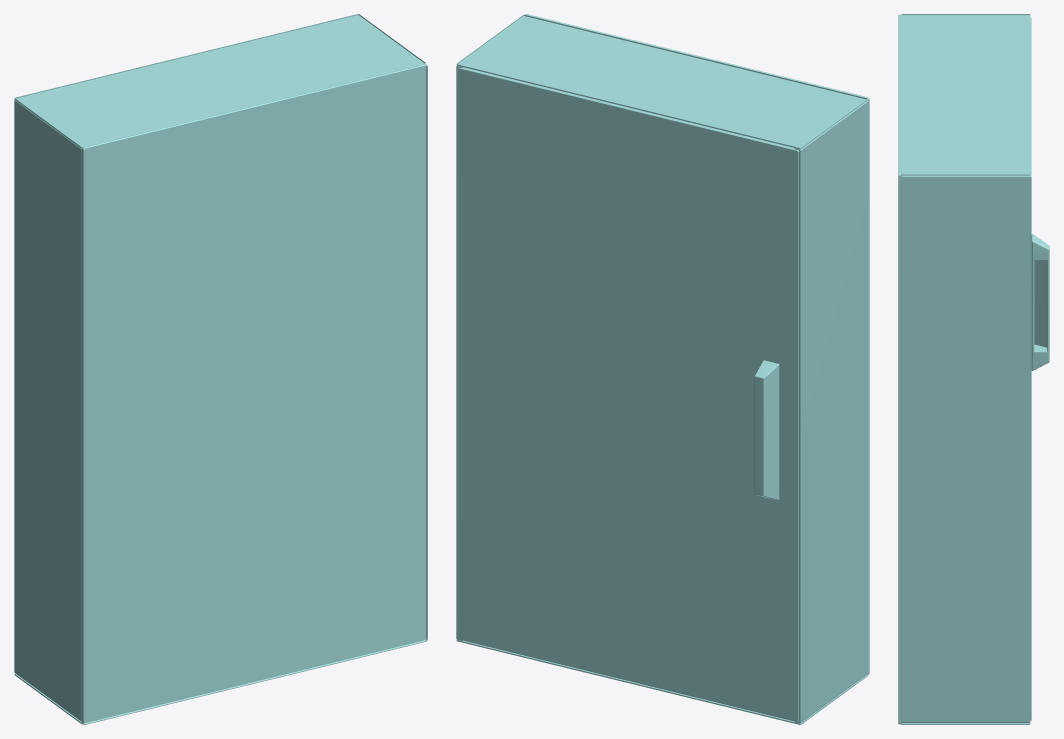
File: Fuse_box_geo 1.fbx
3 renders of one model, left to right at view 1: azimuth 30°, elevation 25°; view 2: azimuth 150°, elevation 25°; view 3: azimuth 270°, elevation 25°, orthographic. The views are drawn at different scales.
Visible parts, largest first — view 1: Outer_shell_back, Outer_shell_sides, Outer_shell_top_and_bottom; view 2: Fuse_box_door, Outer_shell_sides, Outer_shell_top_and_bottom, Fuse_box_handle, Outer_shell_back; view 3: Outer_shell_sides, Outer_shell_top_and_bottom, Outer_shell_back, Fuse_box_handle, Fuse_box_door.
Part boxes in pixels (left/top/right/bottom): Outer_shell_back: left=82, top=64, right=427, bottom=724; Outer_shell_sides: left=14, top=100, right=425, bottom=721; Outer_shell_top_and_bottom: left=14, top=14, right=425, bottom=724; Fuse_box_door: left=457, top=67, right=799, bottom=721; Outer_shell_sides: left=456, top=65, right=868, bottom=723; Outer_shell_top_and_bottom: left=456, top=14, right=867, bottom=724; Fuse_box_handle: left=754, top=360, right=779, bottom=500; Outer_shell_back: left=525, top=14, right=869, bottom=674; Outer_shell_sides: left=901, top=175, right=1030, bottom=722; Outer_shell_top_and_bottom: left=901, top=14, right=1030, bottom=724; Outer_shell_back: left=898, top=14, right=901, bottom=724; Fuse_box_handle: left=1031, top=234, right=1049, bottom=370; Fuse_box_door: left=1030, top=18, right=1031, bottom=720.
Size of the model in its own units: 50 by 80 by 19.92.
